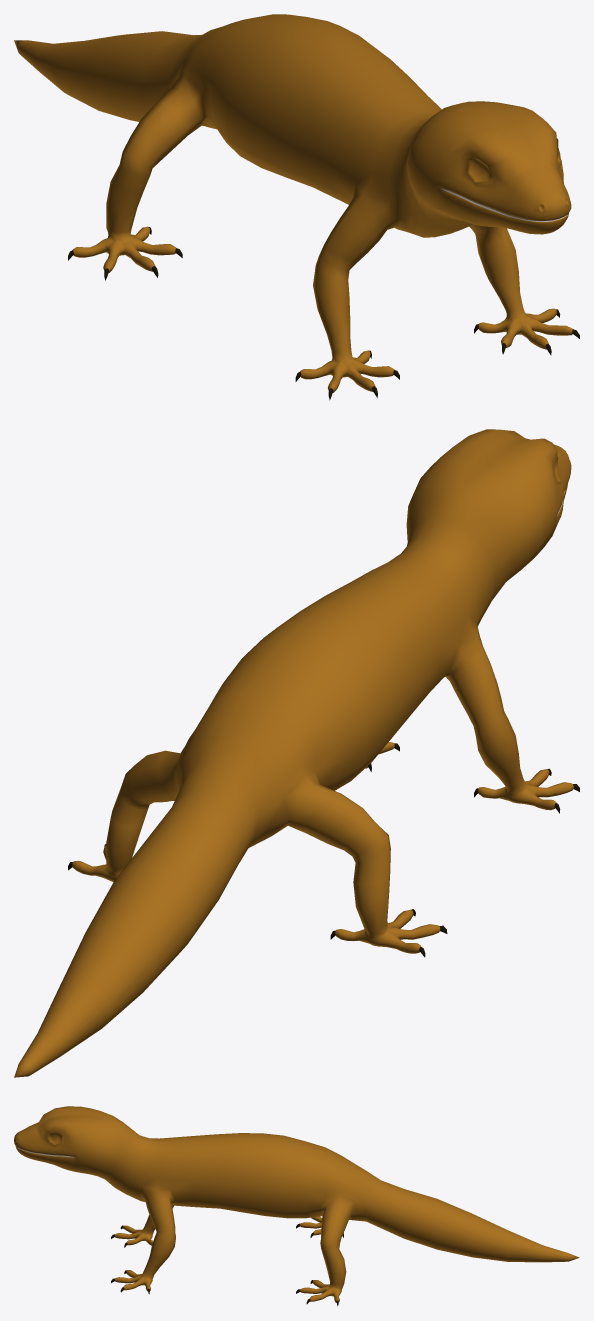
Rendered from gecko_gecko.obj.
The picture shows the model from 3 angles, top to bottom: view 1: azimuth 30°, elevation 25°; view 2: azimuth 150°, elevation 25°; view 3: azimuth 270°, elevation 25°; orthographic projection. The views are drawn at different scales.
Parts seen in each view (by area): view 1: gecko; view 2: gecko; view 3: gecko.
Boxes of the visible parts, box(x1,y1,x2,y2) form: gecko: box(14, 14, 579, 400); gecko: box(14, 429, 579, 1077); gecko: box(14, 1106, 579, 1306).
Bounding box in the file's own units: 0.0976 × 0.0739 × 0.2571.
